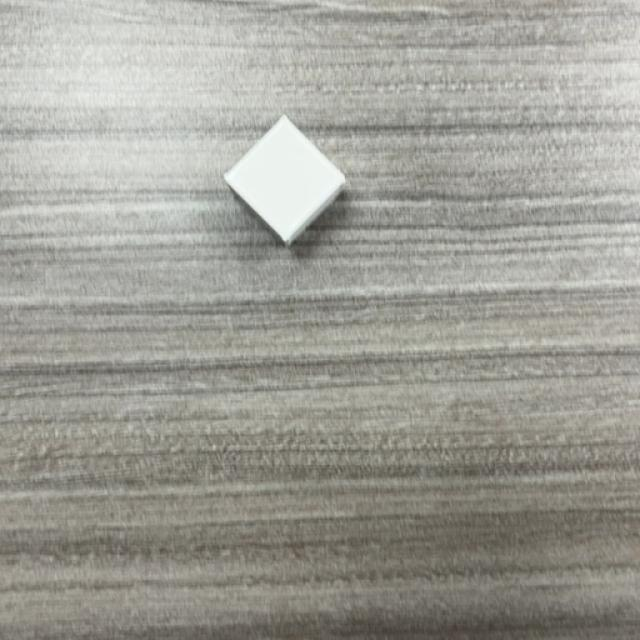Blanco: (222, 118, 346, 246)
